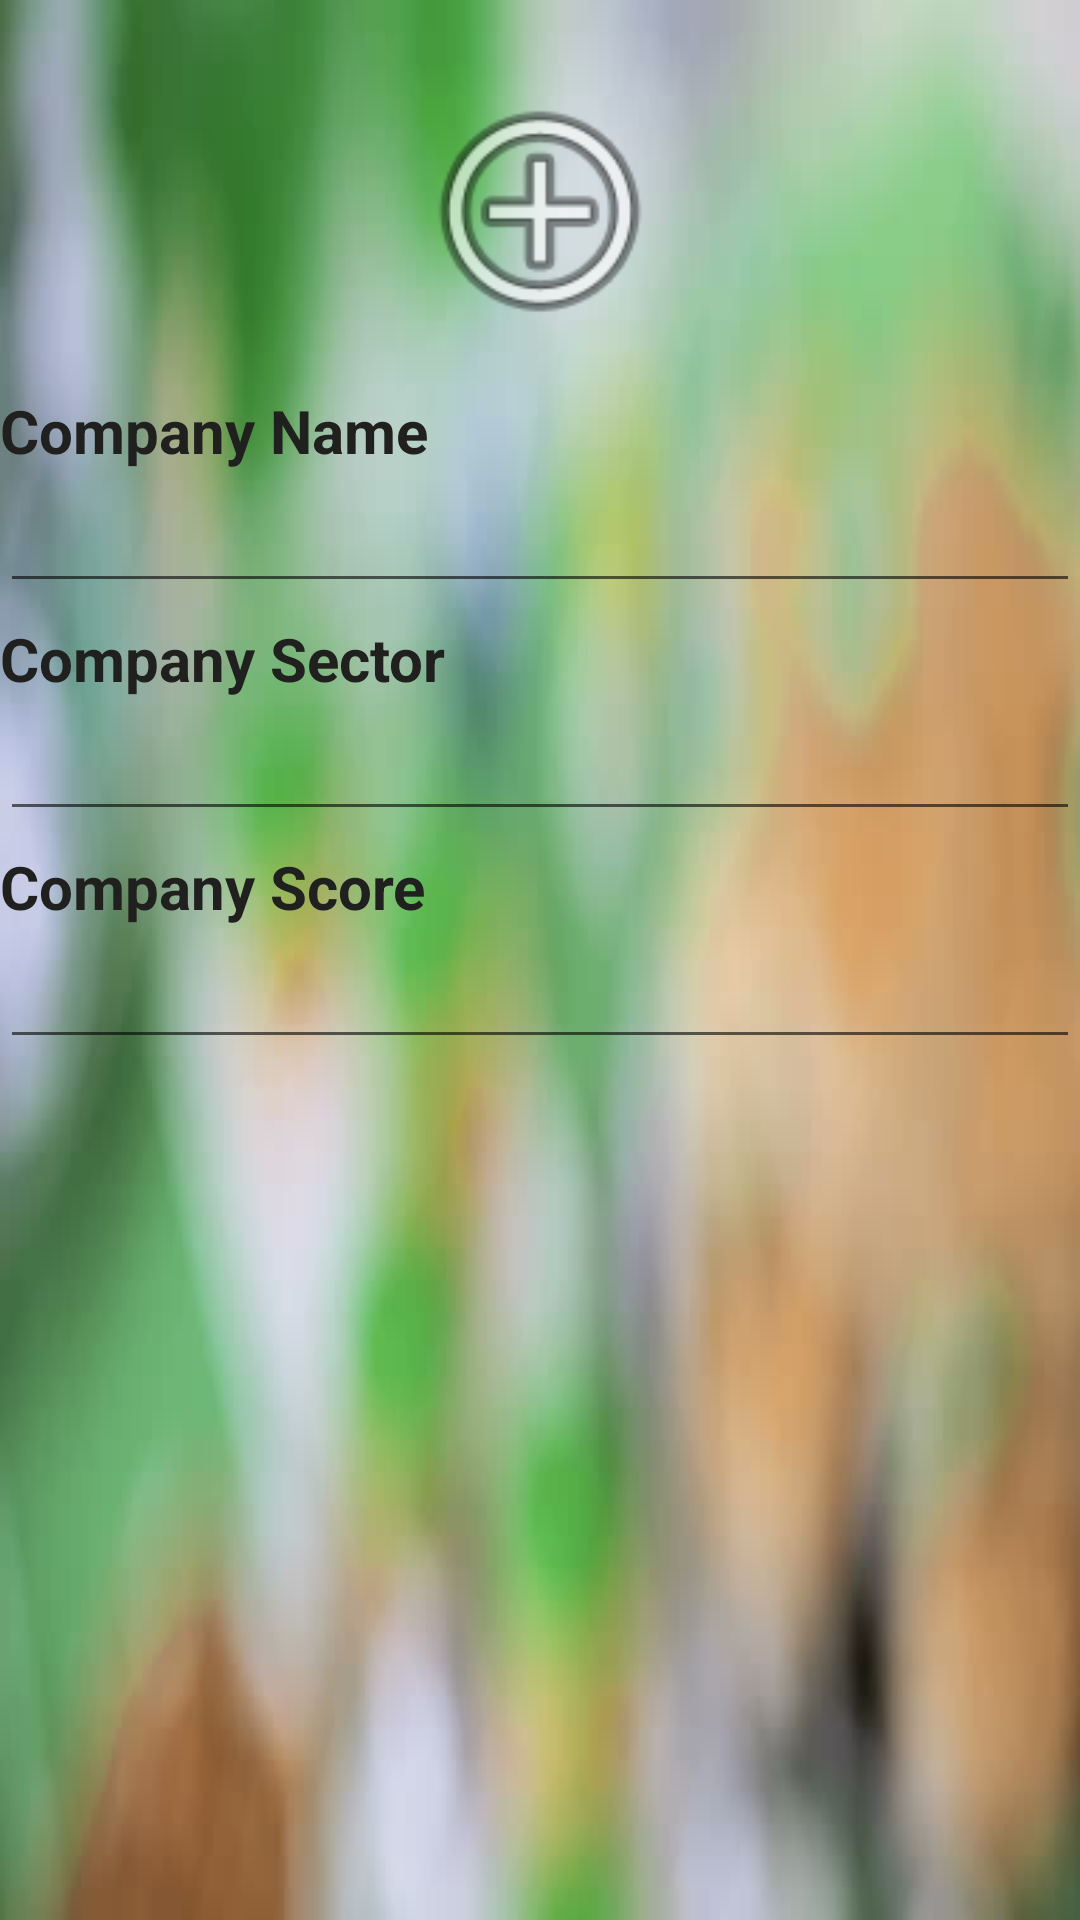

Icons on this 1080px x 1920px Android screen, each with the point to tap as (x,y):
add: (540,210)
